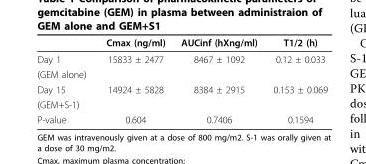table: (36, 36, 326, 124)
table column: (172, 36, 264, 124), (95, 36, 172, 124), (264, 36, 326, 124), (36, 36, 95, 124)
table column header: (36, 36, 326, 50)
table projected row header: (36, 66, 326, 81), (36, 96, 326, 111)
table row: (36, 50, 326, 66), (36, 66, 326, 81), (36, 81, 326, 96), (36, 96, 326, 111), (36, 36, 326, 50), (36, 111, 326, 124)
